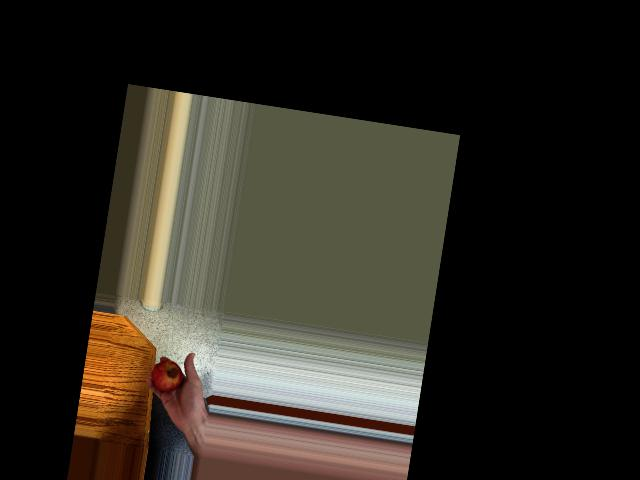apple: (147, 352, 189, 399)
